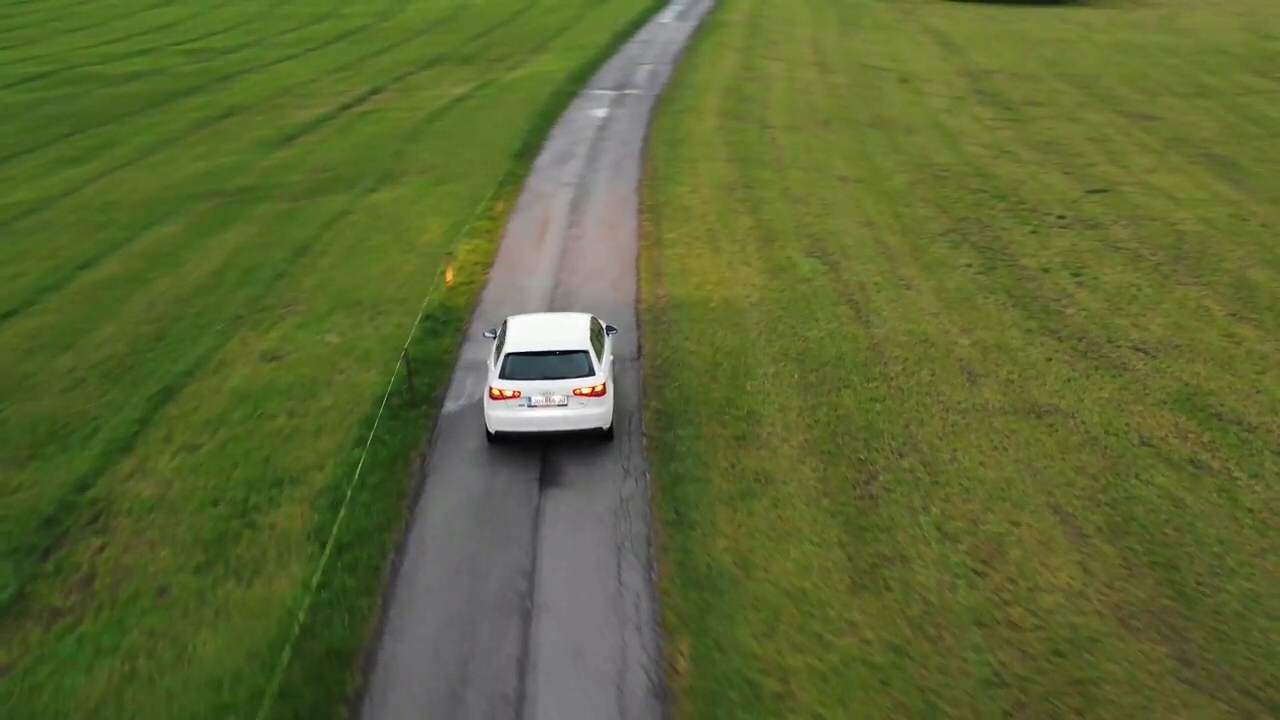araba: (483, 312, 617, 438)
